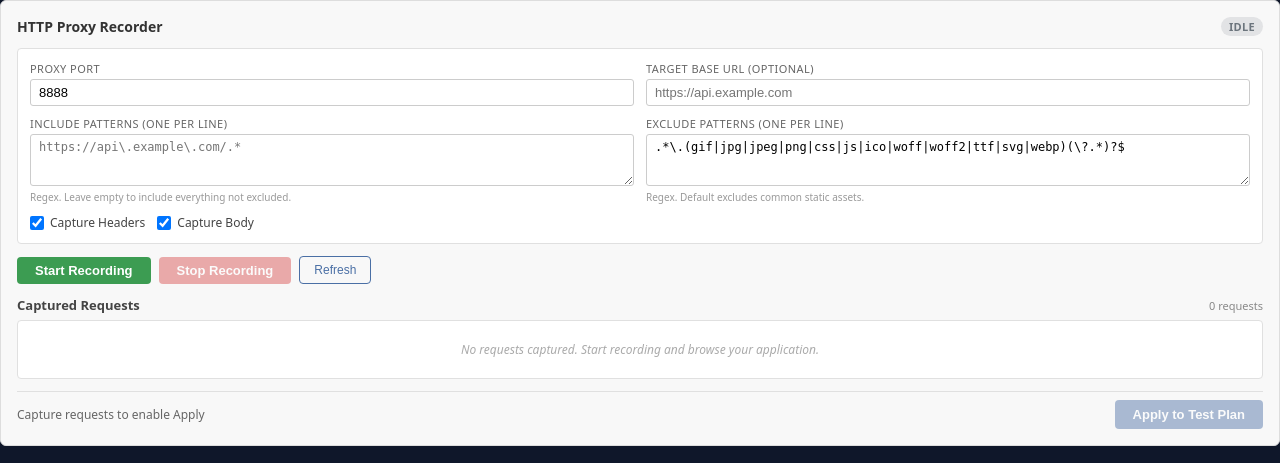
Test case: ProxyRecorderPanel — start recording › transitions status badge to Recording after start
Click the button with test id "start-recording-btn": (84, 270) [17,256,150,284]
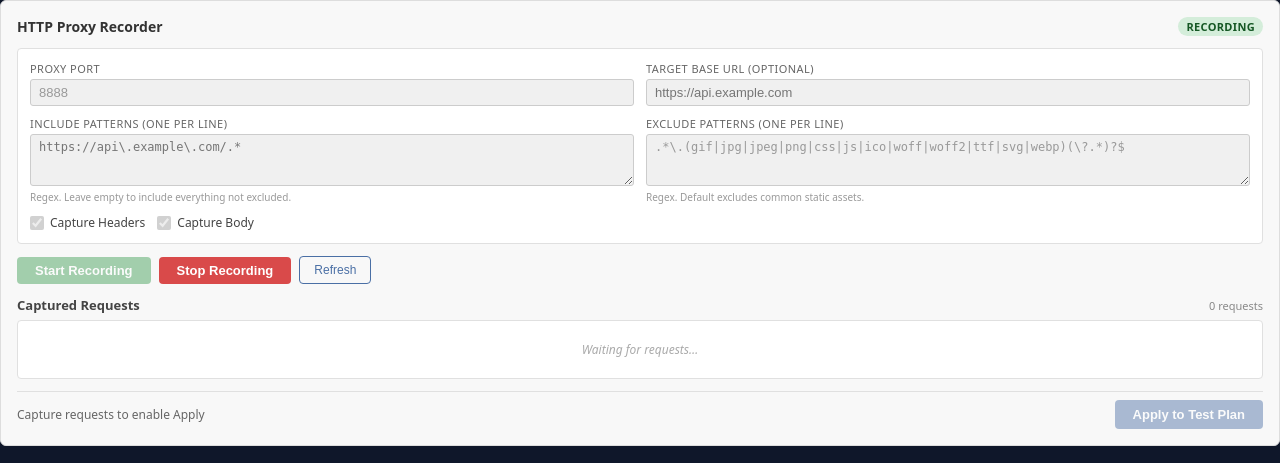
Result: the text with test id "recorder-status" reads "Recording" at [1186,19,1255,34]
